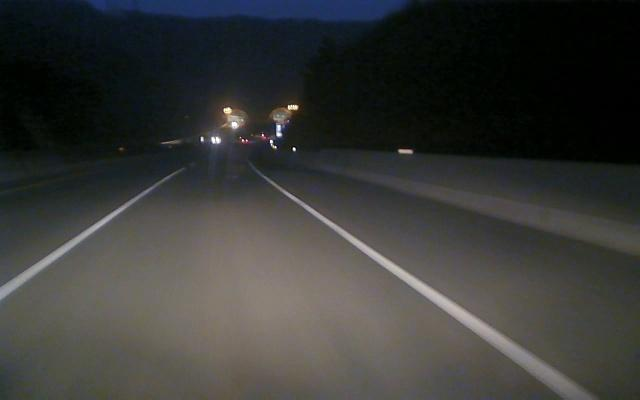lane: (269, 183, 603, 400), (0, 172, 177, 300)
